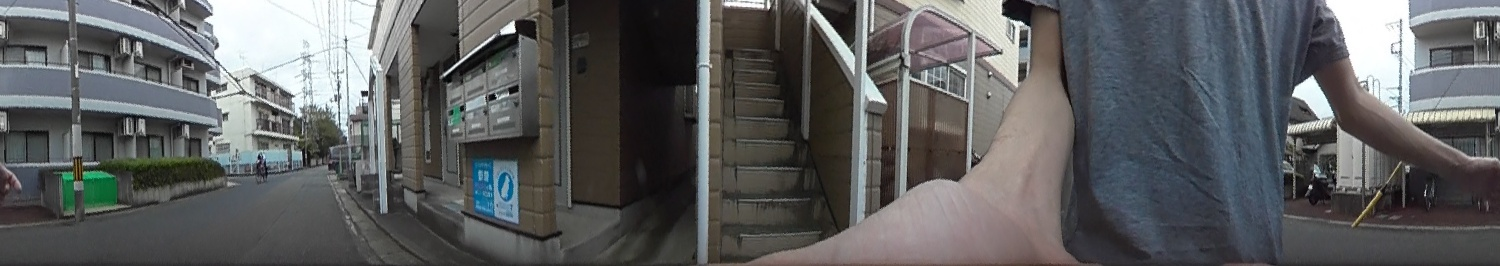difficult_person: (255, 150, 268, 177)
